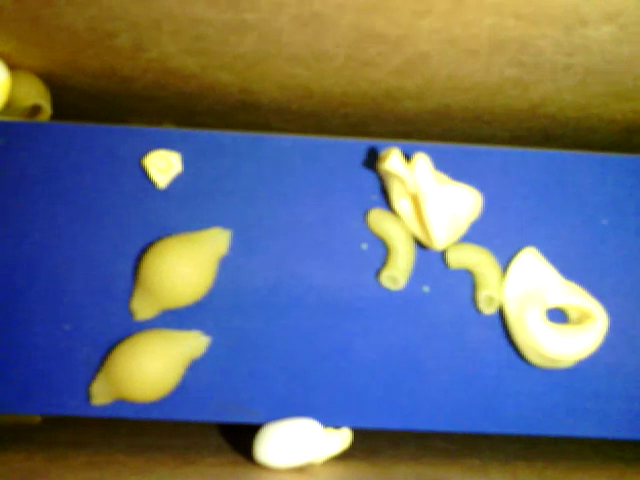elbow: (442, 237, 505, 317), (364, 209, 420, 290)
shell: (89, 325, 215, 412), (127, 225, 232, 326), (2, 70, 56, 125)
tortellini: (500, 242, 610, 372), (372, 144, 484, 253)
